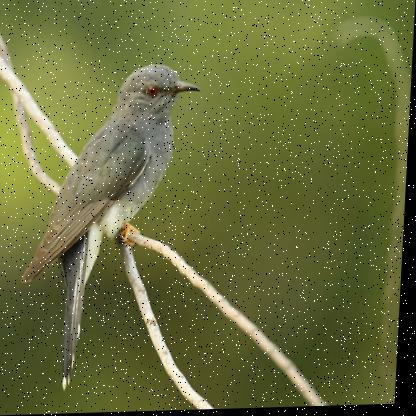Burung: (18, 64, 203, 394)
